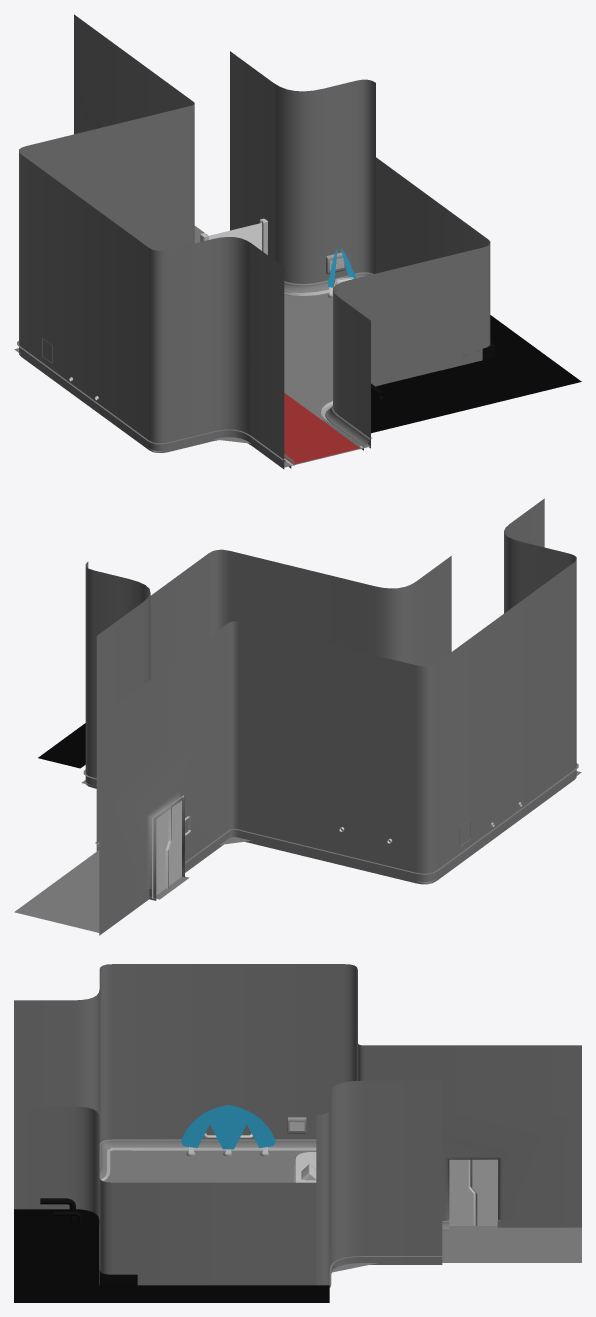
The model's file is SecurityRoomEnvironment.FBX.
3 views of the same model, one above another, from view 1: azimuth 30°, elevation 25°; view 2: azimuth 150°, elevation 25°; view 3: azimuth 270°, elevation 25° (orthographic). The views are drawn at different scales.
Visible parts, largest first — view 1: BackWall, FrontWall, BlackUnlit, Floor, Carpet, WallTrim, SecurityGateBeams; view 2: BackWall, FrontWall, Floor, Elevator, BlackUnlit, WallTrim; view 3: BackWall, FrontWall, BlackUnlit, Floor, Elevator, HologramLight, WallTrim, ForegroundDetail, FloorLightGlow, Desk.
Boxes of the visible parts, box(x1,y1,x2,y2) form: BackWall: box(19, 14, 375, 469); FrontWall: box(333, 157, 490, 448); BlackUnlit: box(371, 315, 581, 433); Floor: box(14, 226, 370, 467); Carpet: box(284, 393, 360, 465); WallTrim: box(17, 272, 373, 468); SecurityGateBeams: box(208, 223, 261, 250); BackWall: box(85, 498, 576, 935); FrontWall: box(150, 549, 451, 679); Floor: box(14, 771, 581, 932); Elevator: box(152, 795, 190, 898); BlackUnlit: box(38, 723, 85, 768); WallTrim: box(83, 763, 578, 874); BackWall: box(14, 964, 581, 1285); FrontWall: box(14, 1106, 316, 1285); BlackUnlit: box(14, 1209, 329, 1302); Floor: box(104, 1151, 581, 1272); Elevator: box(449, 1159, 497, 1225); HologramLight: box(181, 1105, 275, 1149); WallTrim: box(99, 1139, 449, 1287); ForegroundDetail: box(40, 1198, 137, 1285); FloorLightGlow: box(101, 1147, 316, 1180); Desk: box(294, 1152, 316, 1182).
Size of the model in its own units: 1259 by 656 by 1785.
